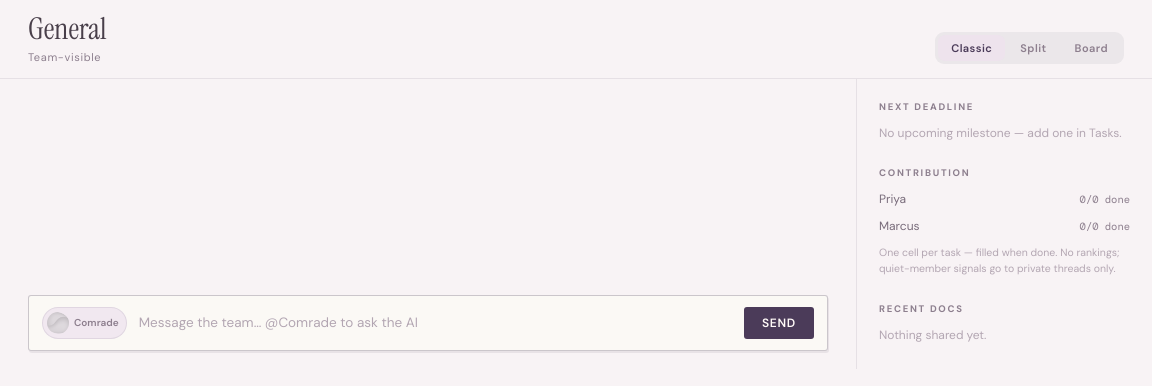
a stream that dies mid-run › revoked access is not retried
In the field with placeholder "Message the team… @Comrade to ask the AI": [435, 322] box [137,306,734,338], type "@comrade status?"
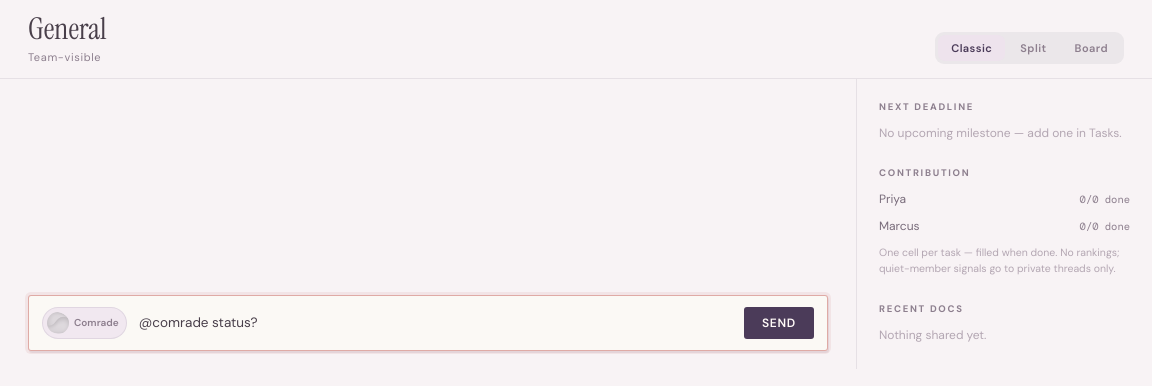
Click the button "SEND": [779, 322] box [744,306,814,338]
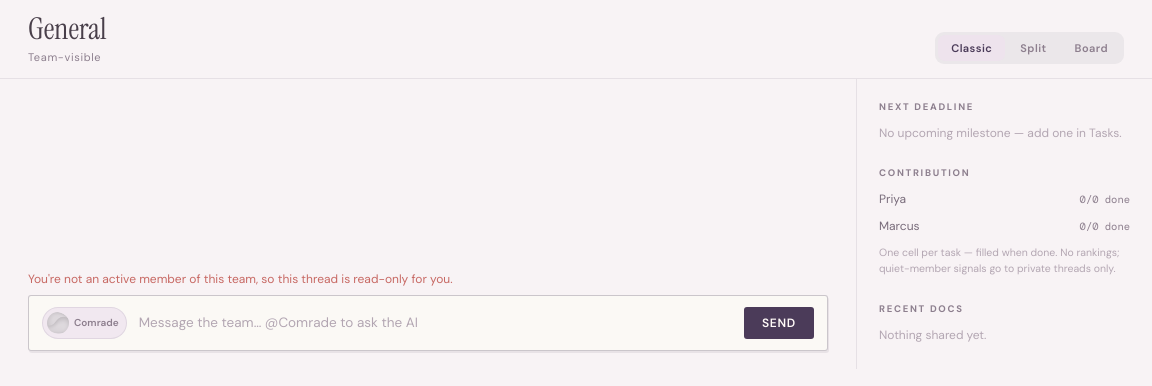
Now the text "read-only for you" is shown, box [28,270,452,286]
